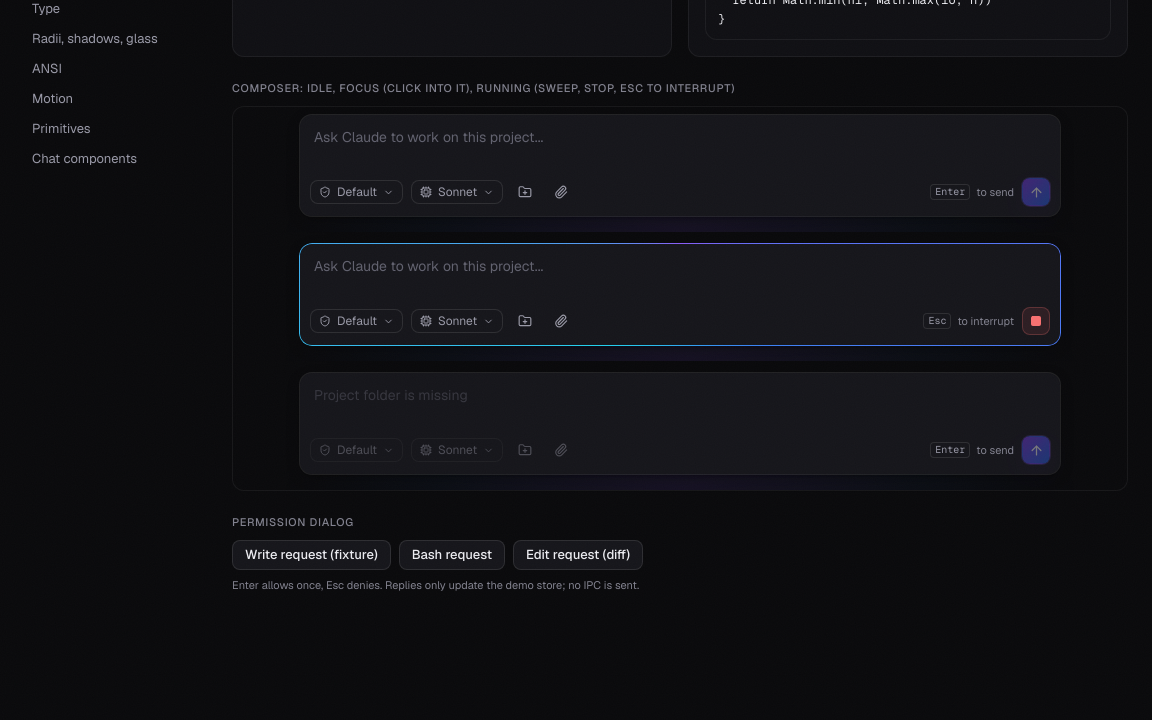
Test: DesignPage › renders every section without errors and without touching IPC
The image size is (1152, 720).
(page scrolled)
Expected: the heading "Composer:" is shown, [232,82,735,96]
Expected: the heading "Permission dialog" is shown, [232,515,354,529]
permission dialog opens from the trigger and closes on Esc
Click the button "Bash request". click: click(452, 555)
box: [399,540,505,570]
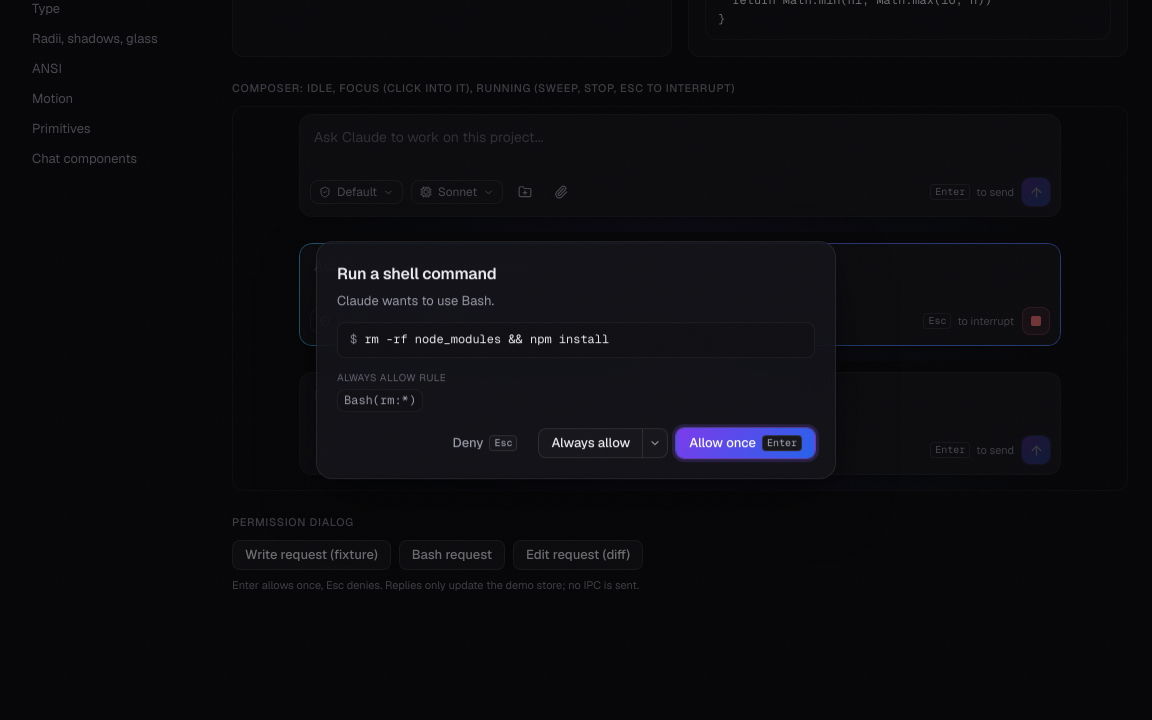
Result: the dialog is shown at [316,241,836,479]
Press Escape
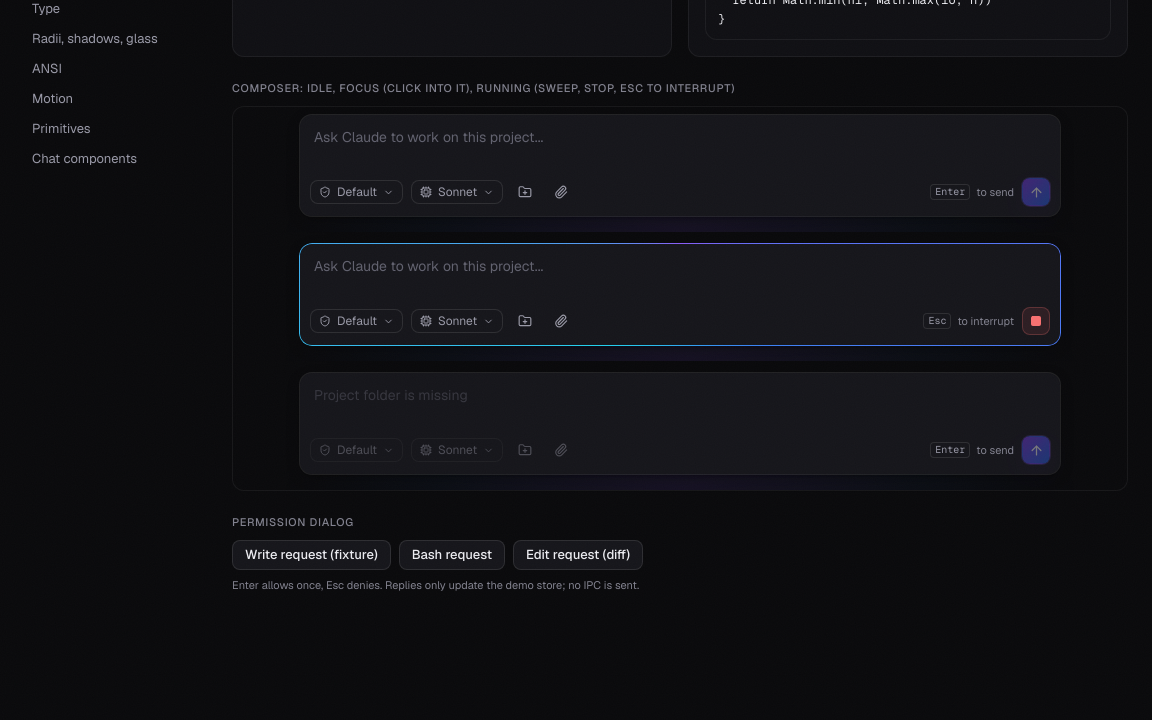
Result: the dialog is gone
